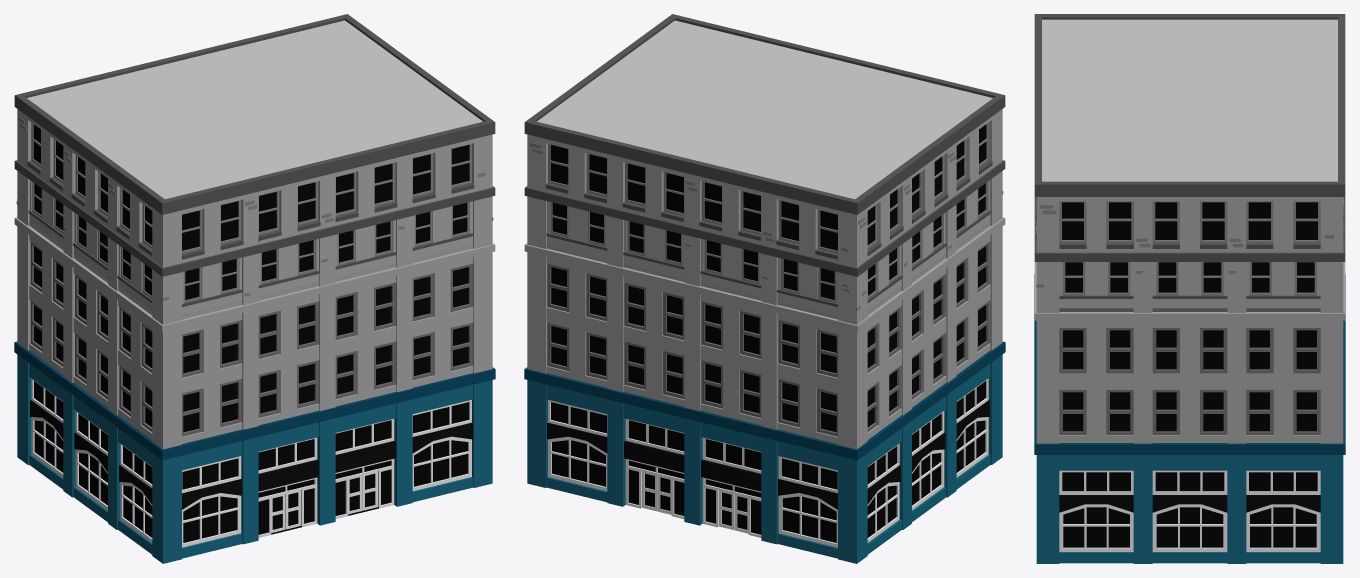
Rendered from NeoClassical-05.fbx.
3 views of the same model, side by side, from view 1: azimuth 30°, elevation 25°; view 2: azimuth 150°, elevation 25°; view 3: azimuth 270°, elevation 25° (orthographic). The views are drawn at different scales.
Parts seen in each view (by area): view 1: Building; view 2: Building; view 3: Building.
Part boxes in pixels (box(x1,y1,x2,y2)): Building: box(14, 14, 495, 563); Building: box(524, 14, 1005, 563); Building: box(1034, 14, 1345, 563).
Size of what is drawn, in the model's own units: 21.32 by 22.1 by 16.4.
